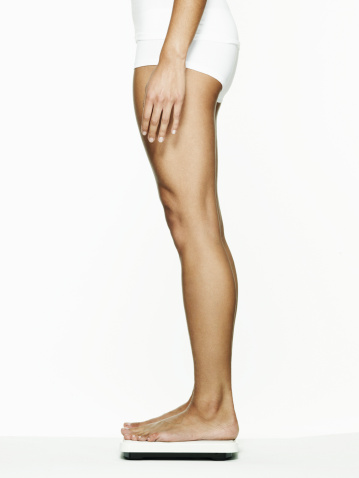em pe: (54, 0, 297, 476)
